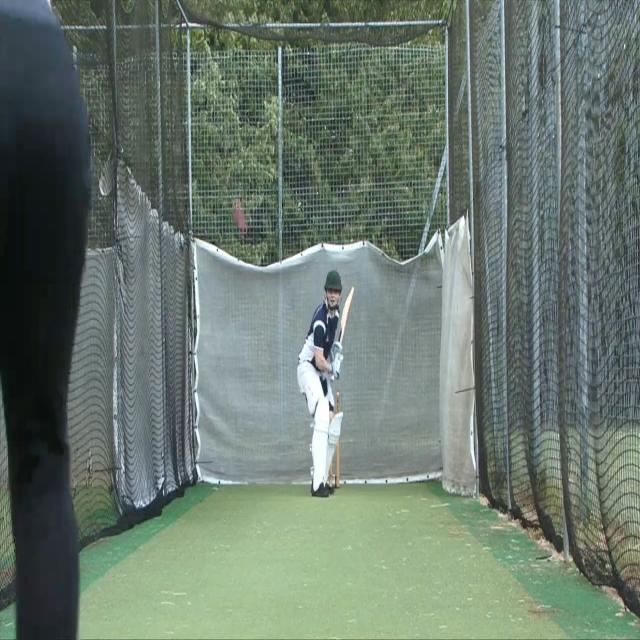batsman: (296, 267, 355, 499)
